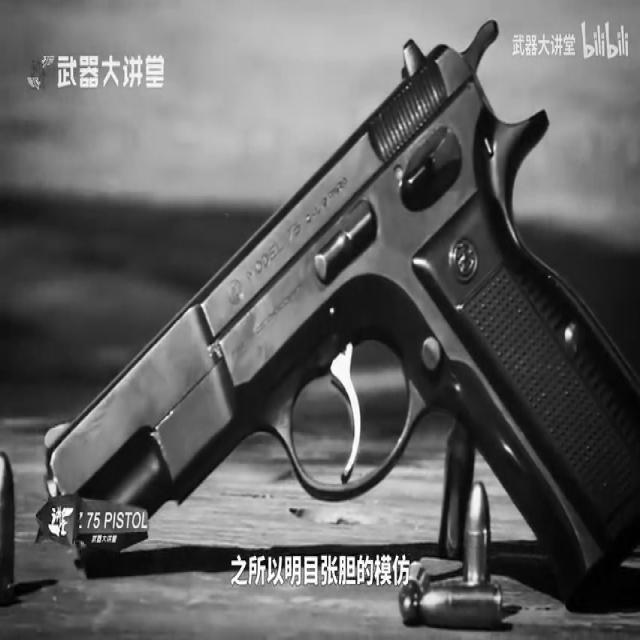Hand-Gun: (24, 11, 594, 587)
